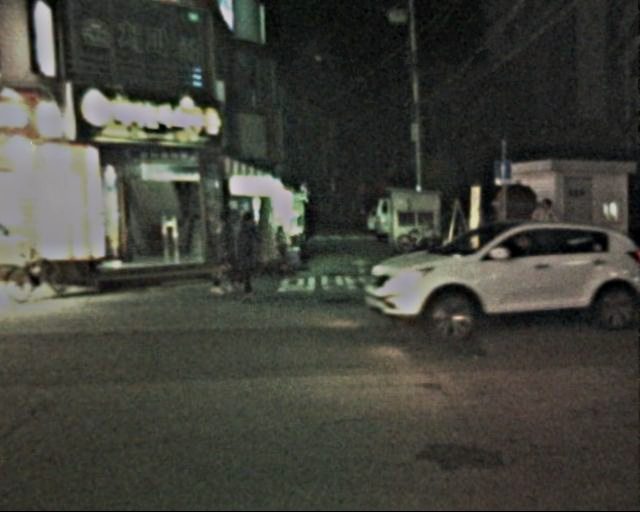person: (203, 203, 245, 298), (223, 207, 264, 302), (527, 195, 564, 285)
